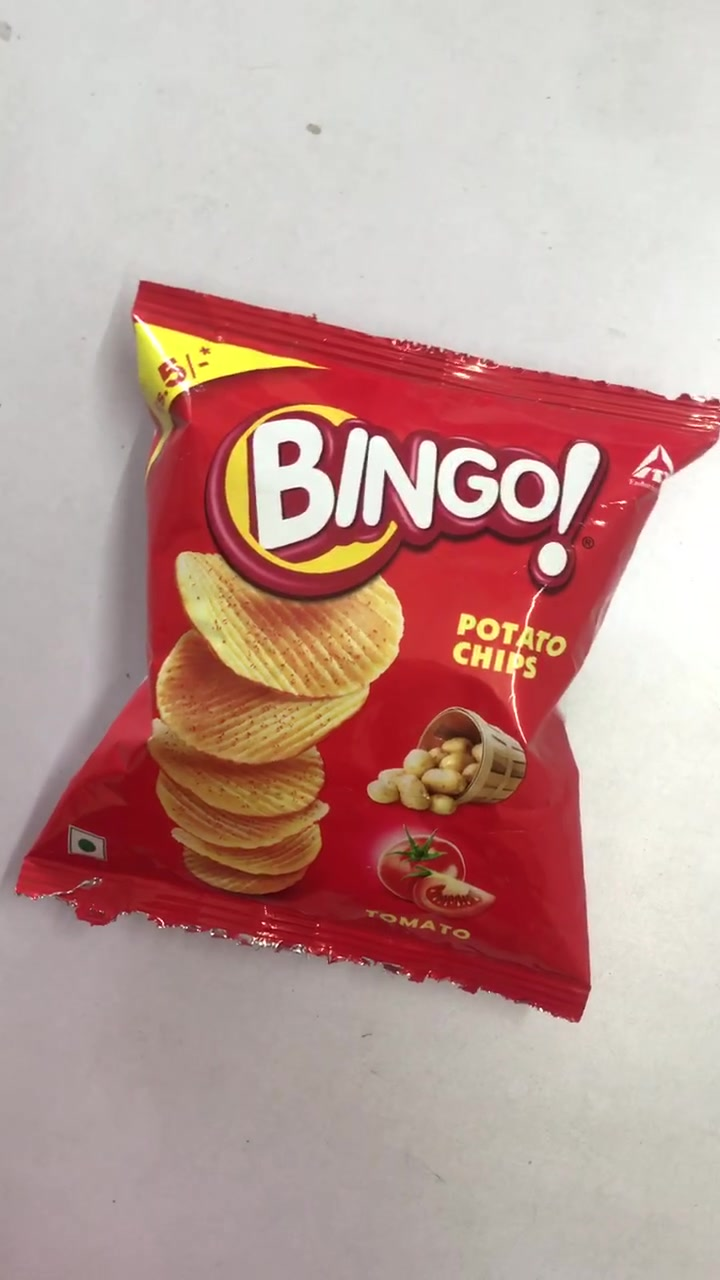Bingo: (21, 277, 720, 1017)
